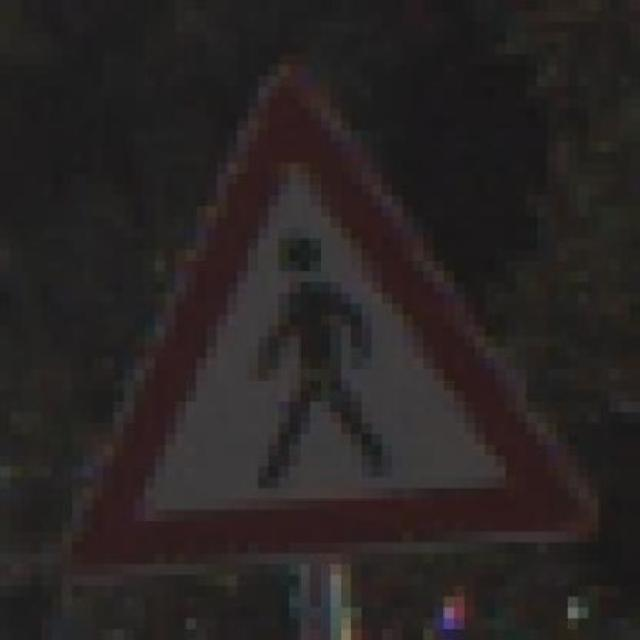Pedestrian Crossing: (41, 54, 630, 575)
